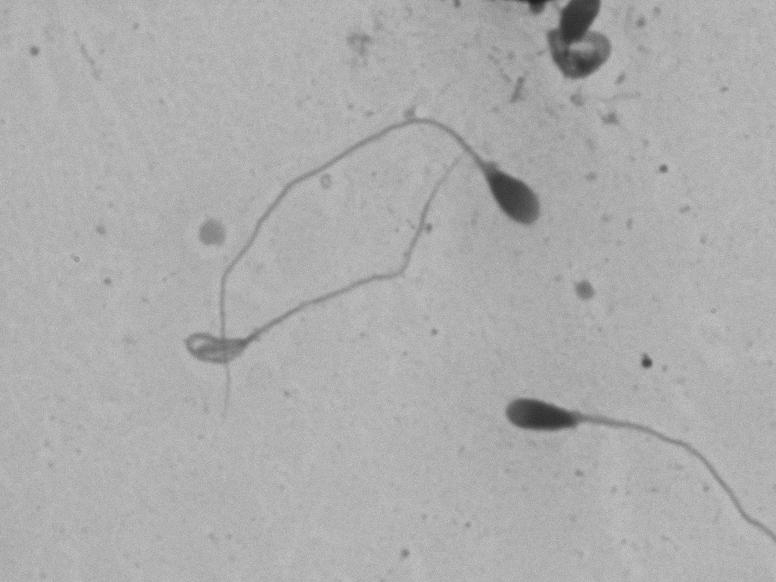Abnormal: (208, 79, 564, 263), (487, 372, 757, 560)
